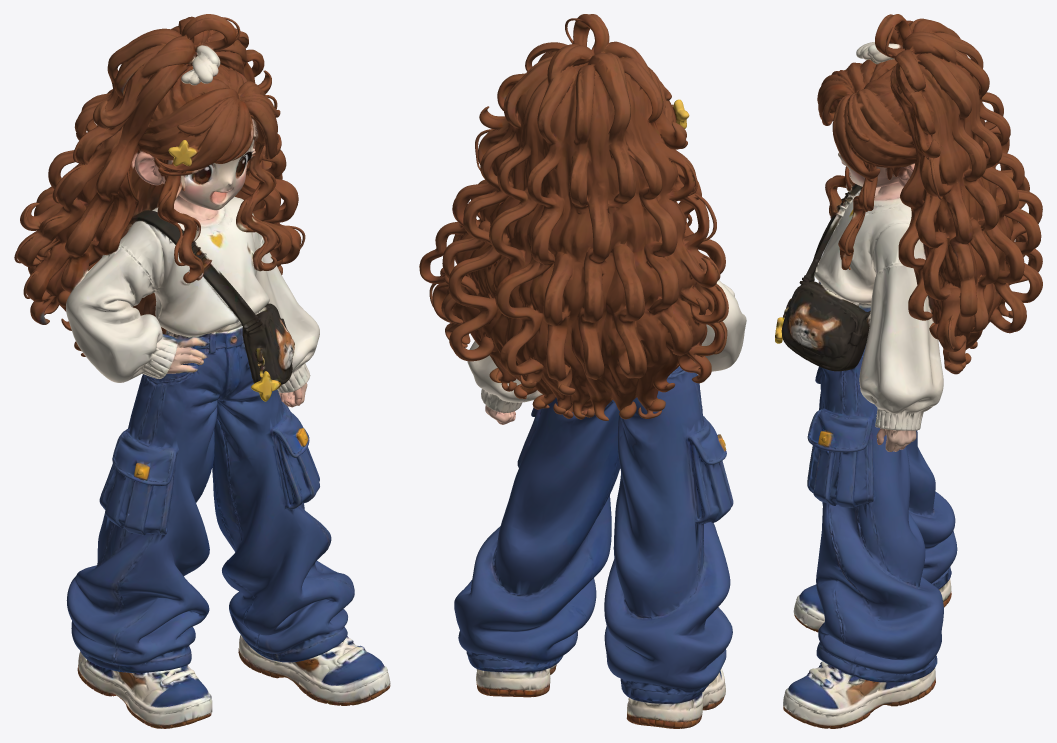
File: profile-anime-girl.glb
3 views of the same model, side by side, from view 1: azimuth 30°, elevation 25°; view 2: azimuth 150°, elevation 25°; view 3: azimuth 270°, elevation 25° (orthographic). The views are drawn at different scales.
Visible parts, largest first — view 1: tripo_node_ea43489f-ab81-468e-a97b-bf2191446714; view 2: tripo_node_ea43489f-ab81-468e-a97b-bf2191446714; view 3: tripo_node_ea43489f-ab81-468e-a97b-bf2191446714.
Boxes of the visible parts, x1,y1,x2,y2 form: tripo_node_ea43489f-ab81-468e-a97b-bf2191446714: [14, 14, 390, 728]; tripo_node_ea43489f-ab81-468e-a97b-bf2191446714: [419, 14, 746, 728]; tripo_node_ea43489f-ab81-468e-a97b-bf2191446714: [775, 14, 1042, 728].
Bounding box in the file's own units: 0.4509 × 0.9817 × 0.3645.
1 material, 1 textured.
